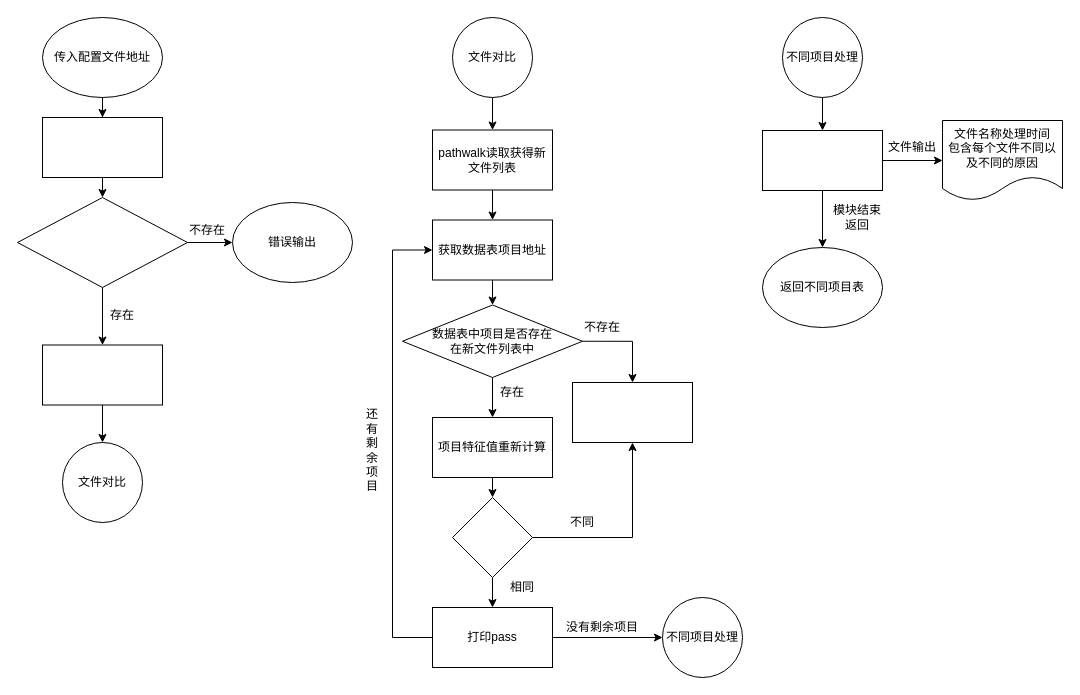
The diagram is 1080 pixels wide and 695 high, and some of its shapes have lost their labels. Each missing label, with the centre of its shape:
"不同项目表输出到外部json文件" goes at [822,160].
"加入不同项目表" goes at [632,412].
"数据表文件是否对应存在" goes at [102,242].
"特征值对比" goes at [492,537].
"解压数据表文件" goes at [102,374].
"读取配置文件 找到配置文件中target" goes at [102,147].
